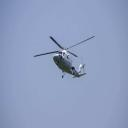helicopter: (34, 32, 97, 82)
